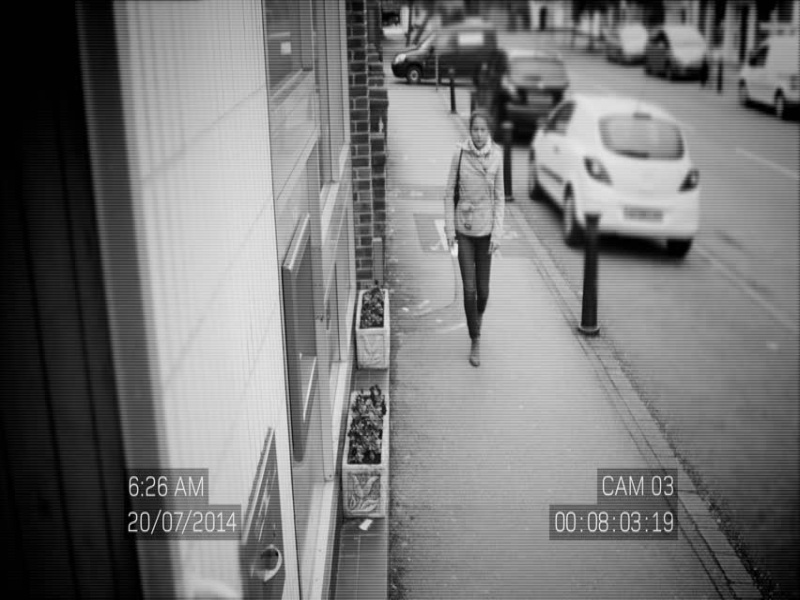car: (519, 88, 710, 264), (470, 47, 579, 149), (386, 19, 510, 88), (734, 31, 800, 124), (639, 22, 715, 86), (601, 20, 657, 69)
person: (439, 110, 509, 380)
